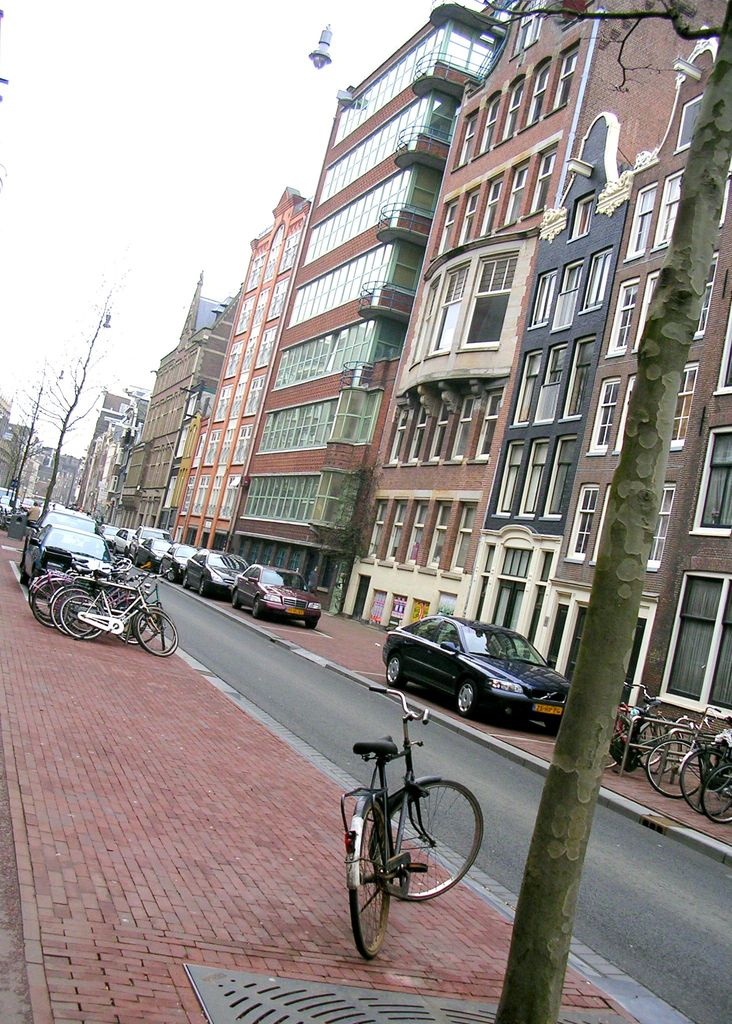Window: (236, 3, 503, 534), (667, 572, 731, 717), (448, 249, 518, 349), (425, 256, 475, 354), (648, 360, 697, 460), (688, 431, 731, 534), (644, 472, 678, 570), (688, 242, 720, 338), (558, 335, 596, 415), (565, 476, 601, 558), (583, 374, 618, 455), (471, 380, 503, 468), (408, 273, 438, 365), (625, 179, 660, 257), (543, 43, 583, 111), (653, 163, 685, 248), (491, 442, 527, 515), (541, 436, 574, 515), (511, 352, 543, 433), (582, 242, 616, 316), (608, 280, 642, 352), (525, 144, 558, 218), (443, 394, 478, 463), (517, 444, 551, 515), (451, 95, 482, 168), (534, 347, 567, 415), (455, 497, 482, 573), (476, 170, 504, 239), (432, 196, 460, 263), (384, 492, 410, 562), (389, 399, 417, 463), (525, 57, 553, 120), (553, 258, 578, 328), (504, 158, 529, 227), (362, 499, 391, 557), (475, 90, 499, 160), (529, 267, 557, 326), (427, 399, 453, 459), (457, 184, 482, 246), (499, 74, 522, 141), (405, 408, 432, 464), (427, 497, 448, 568), (718, 294, 731, 394), (215, 473, 241, 522), (405, 492, 422, 564), (240, 372, 264, 417), (275, 230, 301, 270), (219, 339, 243, 378), (264, 279, 289, 316), (233, 294, 254, 337), (228, 426, 252, 463), (247, 249, 268, 291), (254, 324, 277, 361), (193, 471, 210, 515), (202, 431, 222, 466), (212, 382, 231, 417), (573, 198, 589, 234)
